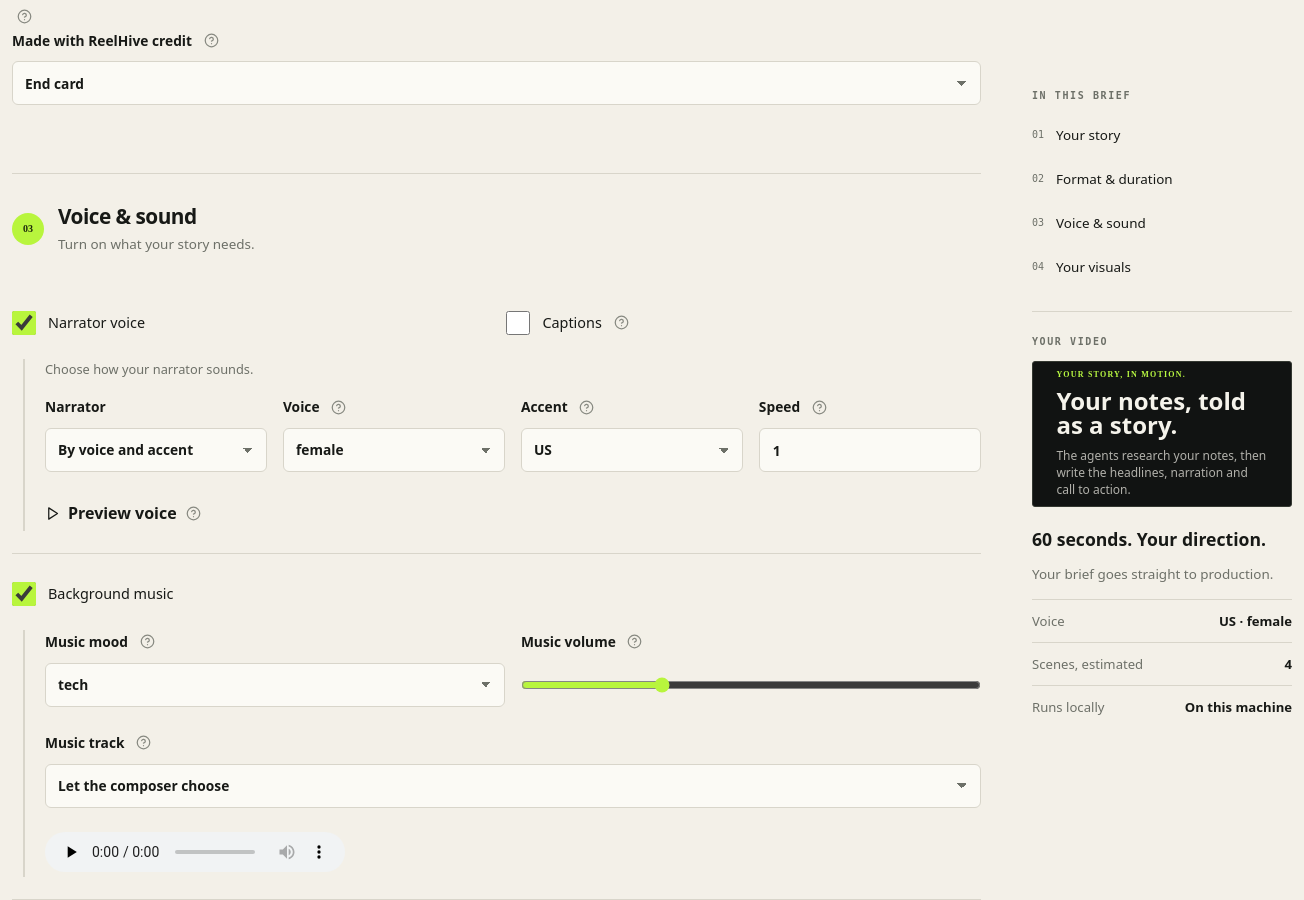
brief progressive disclosure › shows voice controls for narration or captions and retains the chosen voice
(page scrolled)
Select "male" in the dropdown labelled "Voice" at (394, 450), box [283, 428, 505, 472]
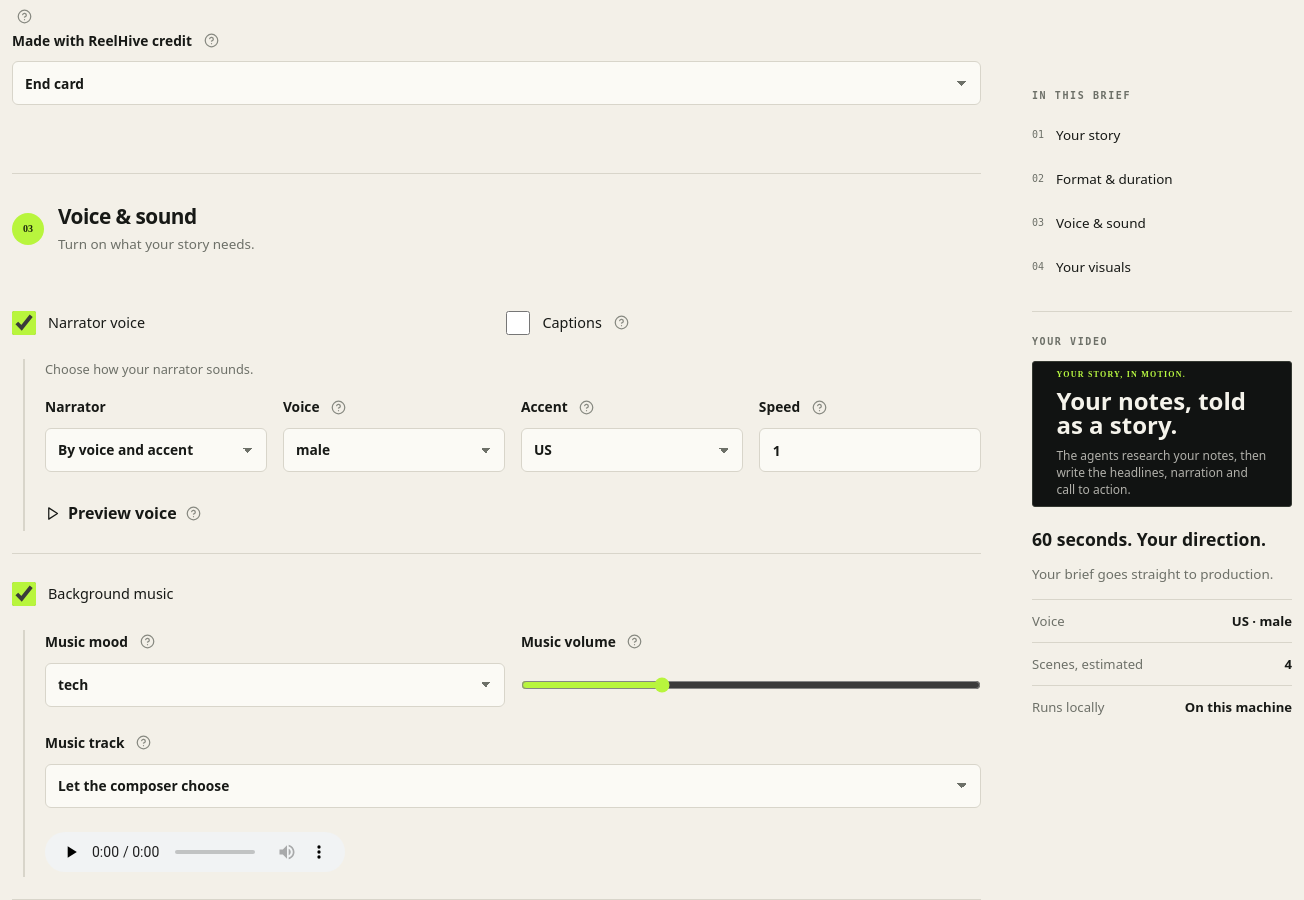
Click the checkbox labelled "Narrator voice" at (24, 323), box [12, 311, 36, 335]
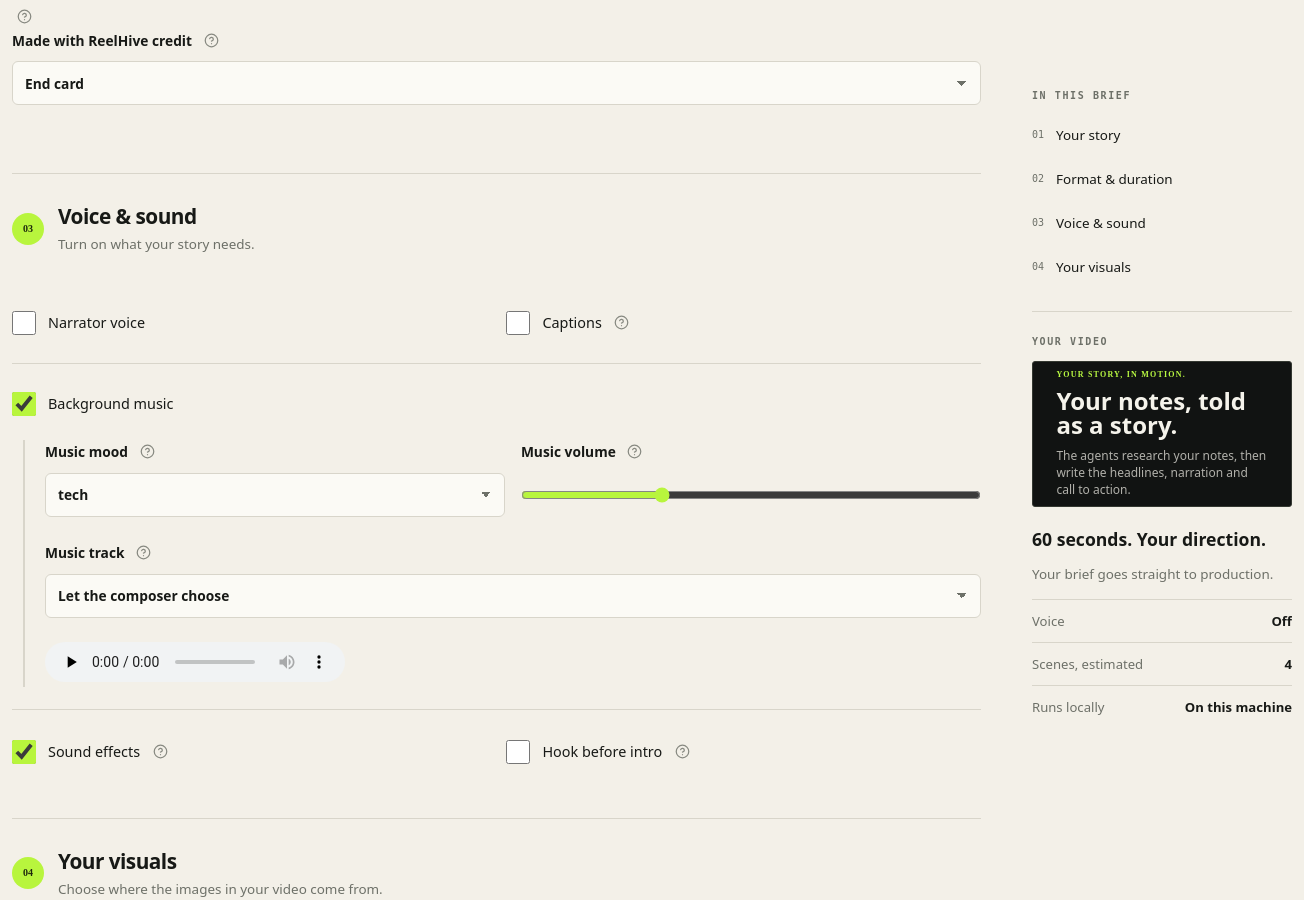
Click the checkbox labelled "Captions" at (518, 323), box [506, 311, 530, 335]
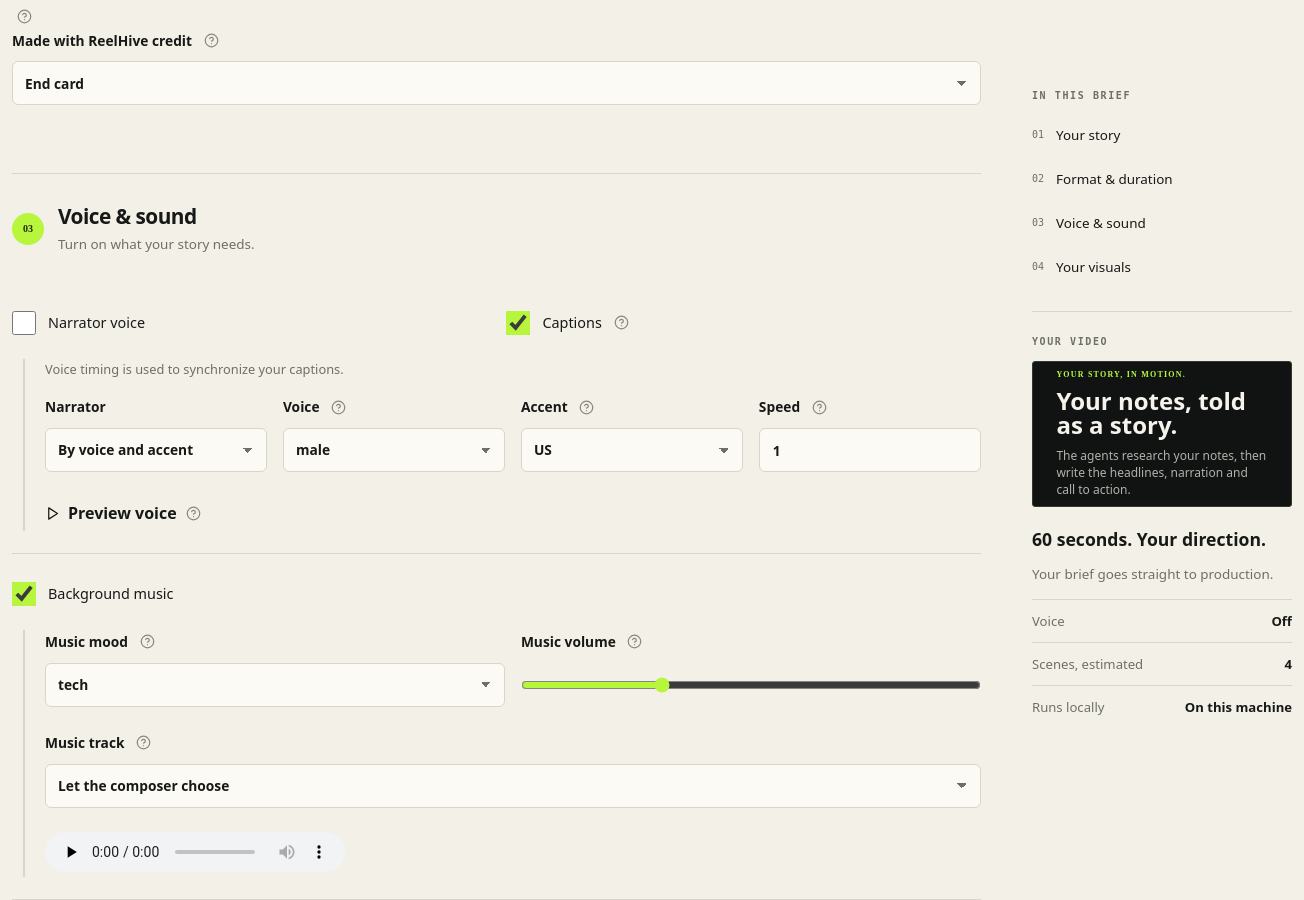
Check: the dropdown labelled "Voice" shows "male", box [283, 428, 505, 472]
Check: the text "Voice timing is used to synchronize your captions." is shown, box [45, 360, 344, 378]
Click the checkbox labelled "Captions" at (518, 323), box [506, 311, 530, 335]
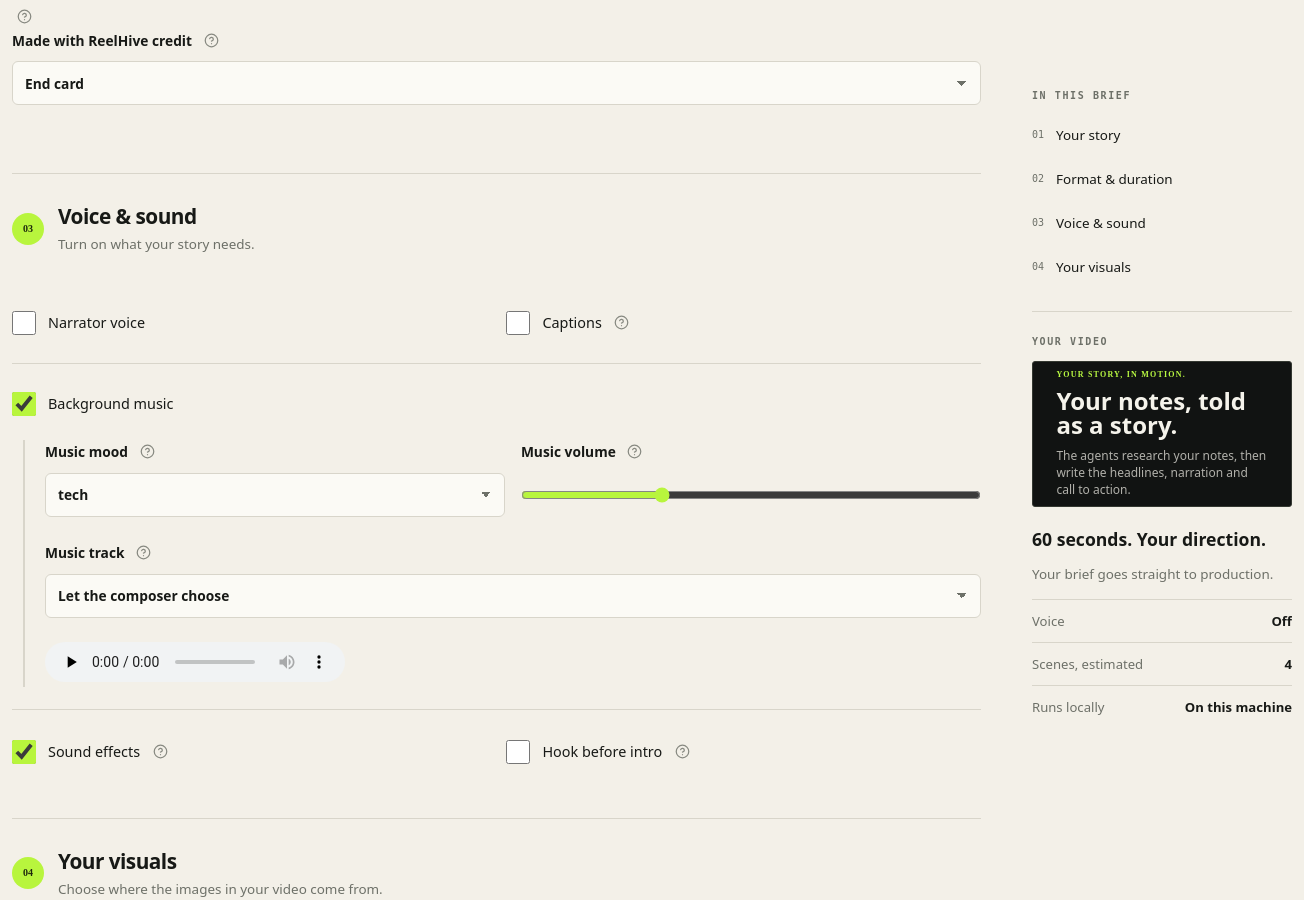
Click the checkbox labelled "Narrator voice" at (24, 323), box [12, 311, 36, 335]
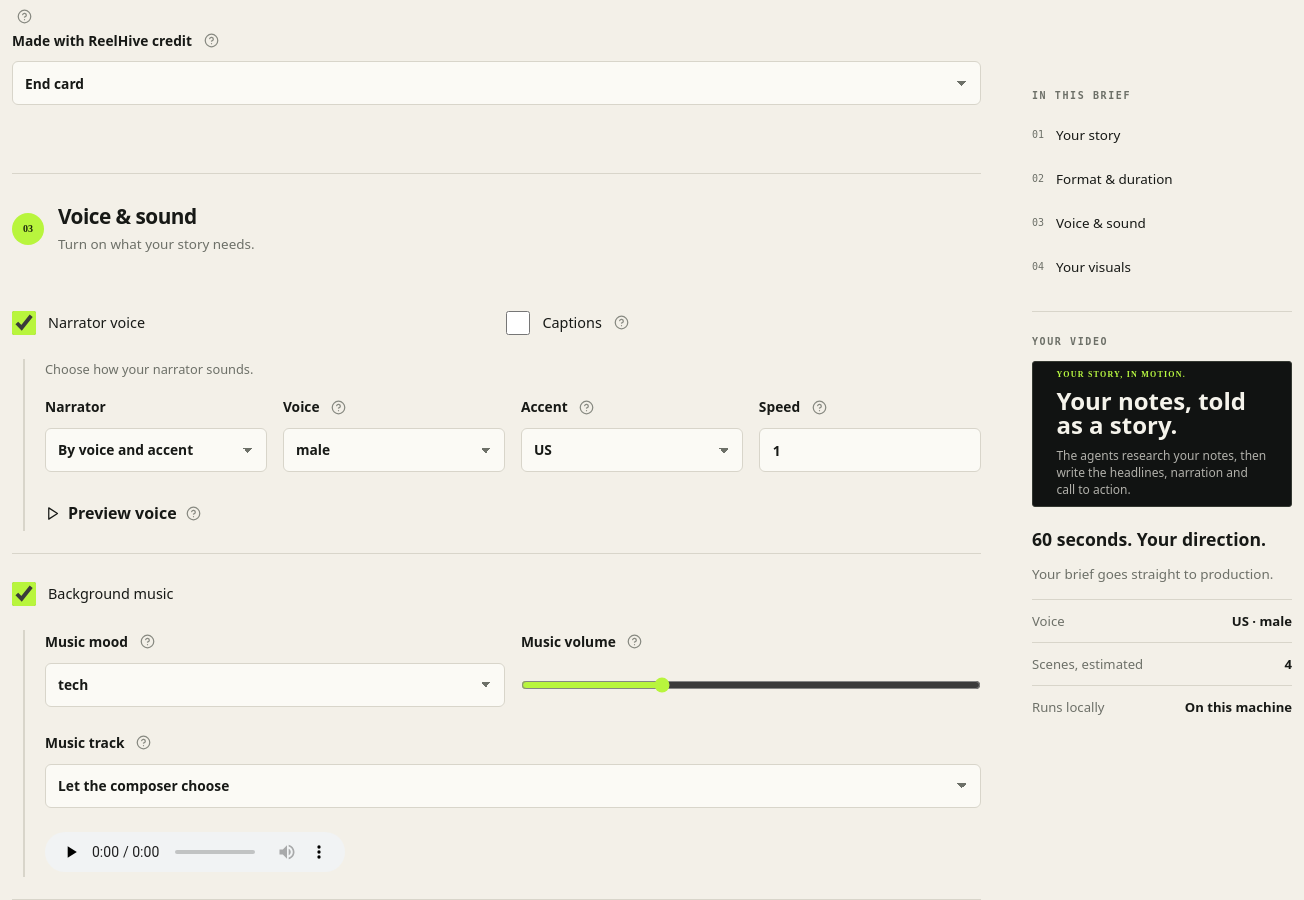
Check: the dropdown labelled "Voice" shows "male", box [283, 428, 505, 472]
